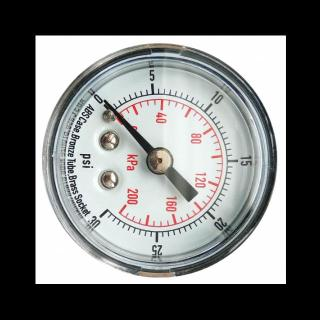gauge: (35, 36, 285, 284), (90, 90, 122, 122), (146, 146, 173, 174), (89, 203, 113, 227), (100, 96, 112, 110)
